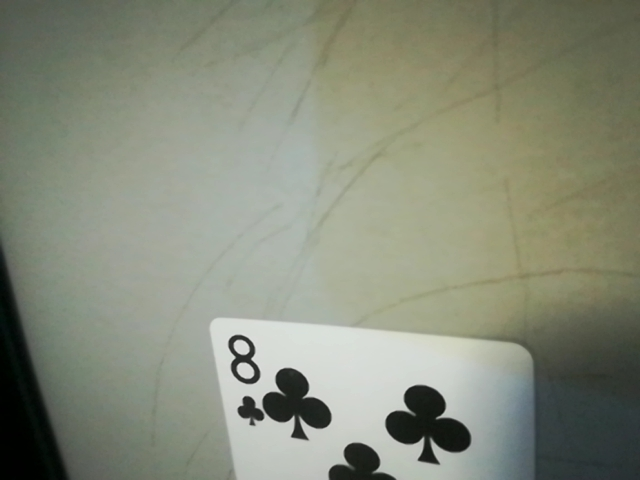mh 8: (211, 325, 266, 431)
